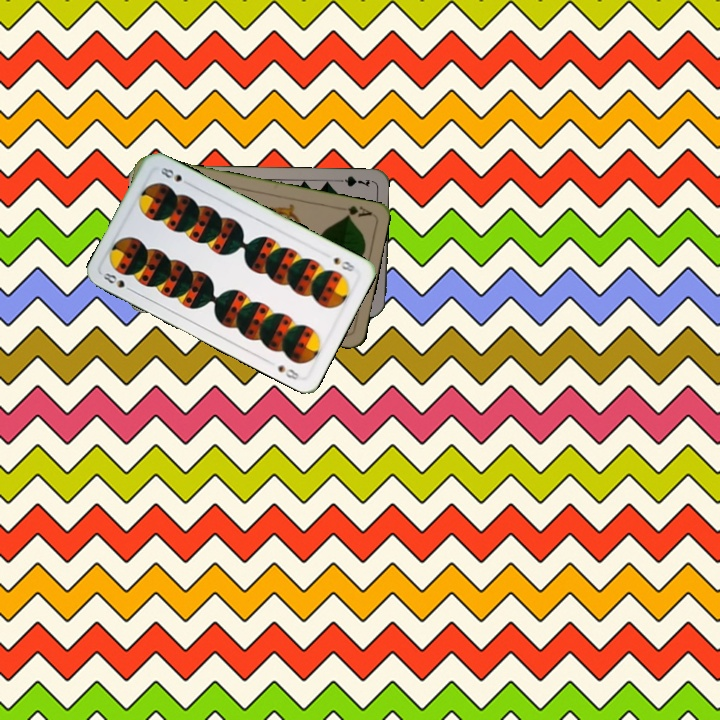G7: (332, 171, 372, 189)
GA: (334, 202, 374, 220)
S8: (98, 269, 137, 295), (329, 253, 358, 274)
